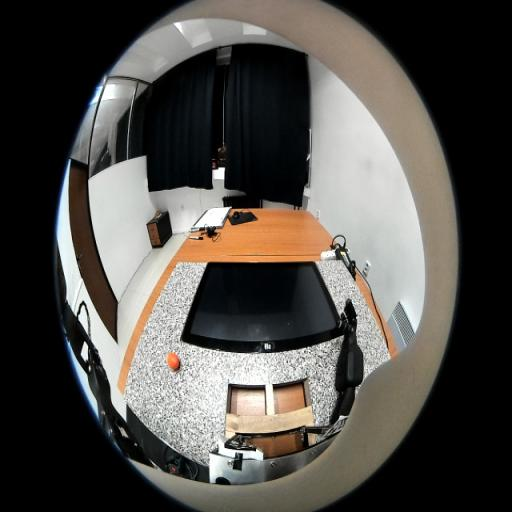Orange: (168, 352, 180, 370)
RightHand: (344, 318, 357, 335)
